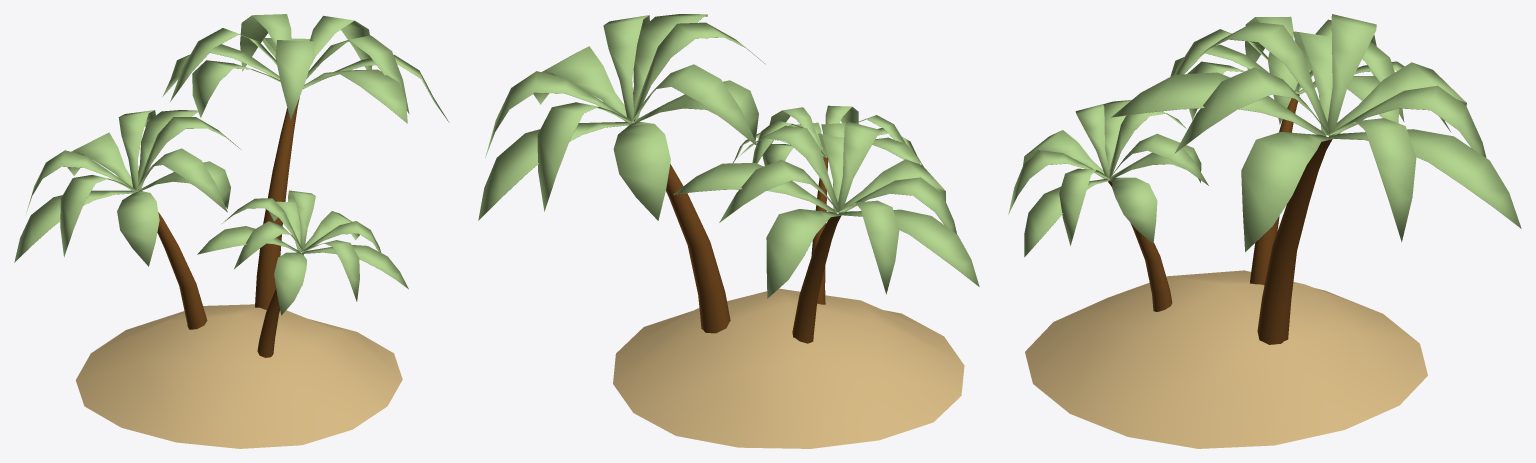
File: jarmada-rock.gltf
The picture shows the model from 3 angles, left to right: view 1: azimuth 30°, elevation 25°; view 2: azimuth 150°, elevation 25°; view 3: azimuth 270°, elevation 25°; orthographic projection. The views are drawn at different scales.
Size of the model in its own units: 1.43 by 1.01 by 1.25.
